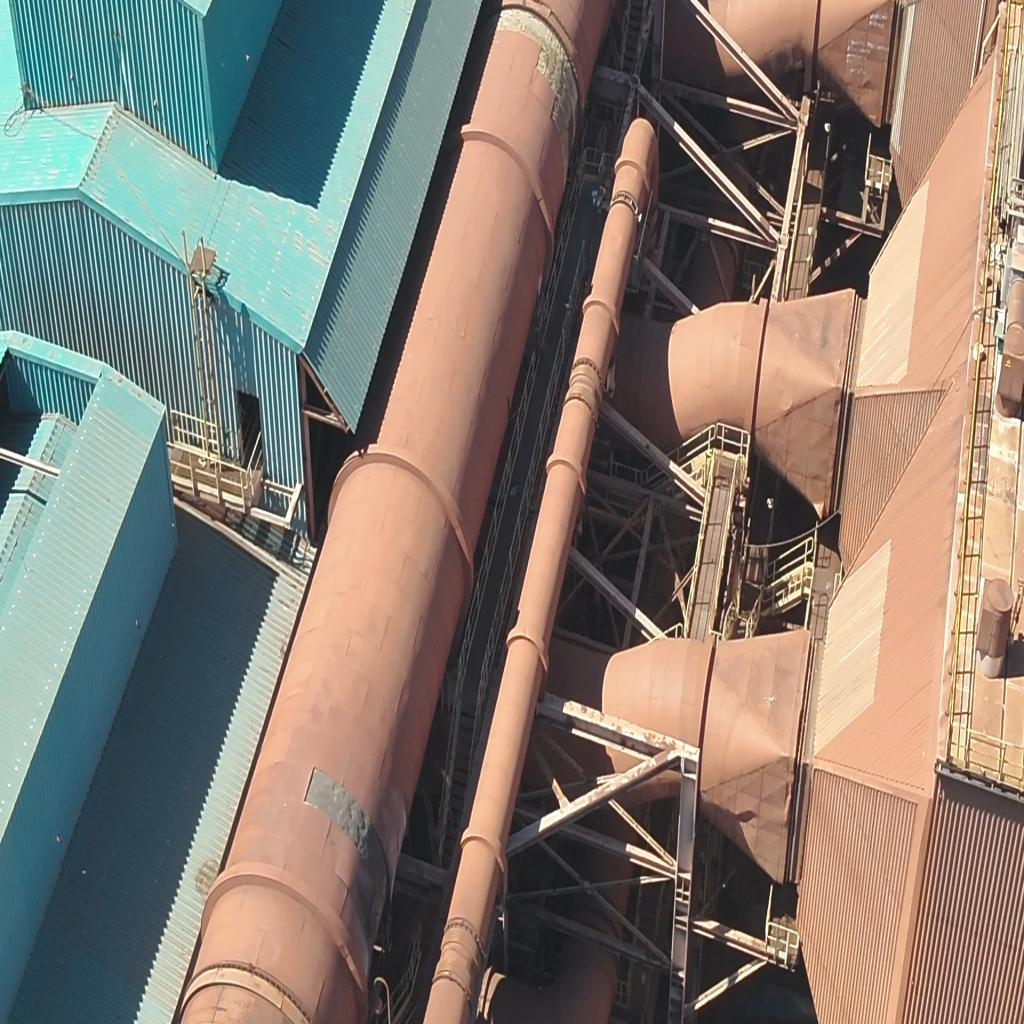Failures: (498, 9, 580, 174), (305, 752, 394, 899)
